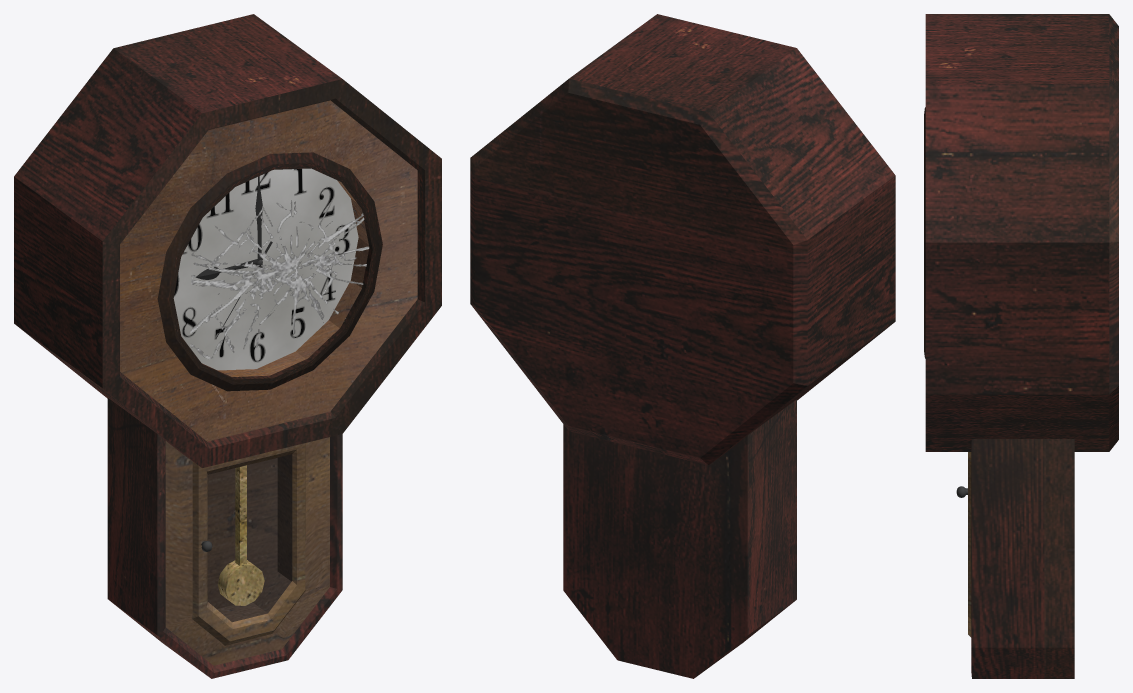
Rendered from object_clock2.fbx.
3 views of the same model, side by side, from view 1: azimuth 30°, elevation 25°; view 2: azimuth 150°, elevation 25°; view 3: azimuth 270°, elevation 25° (orthographic). The views are drawn at different scales.
Visible parts, largest first — view 1: clock12, clock5, clock11, clock2, clock6, clock3, clock4; view 2: clock12, clock5; view 3: clock12, clock5, clock2, clock11.
Part boxes in pixels (box(x1,y1,x2,y2)): clock12: box(14, 14, 441, 467); clock5: box(107, 398, 342, 678); clock11: box(157, 152, 382, 391); clock2: box(192, 443, 305, 645); clock6: box(190, 200, 369, 359); clock3: box(217, 560, 264, 605); clock4: box(235, 465, 246, 565); clock12: box(470, 14, 895, 465); clock5: box(563, 399, 796, 678); clock12: box(925, 14, 1118, 451); clock5: box(971, 439, 1074, 678); clock2: box(956, 452, 971, 637); clock11: box(924, 107, 925, 358).
Bounding box in the file's own units: 41.28 × 68.6 × 19.85.
